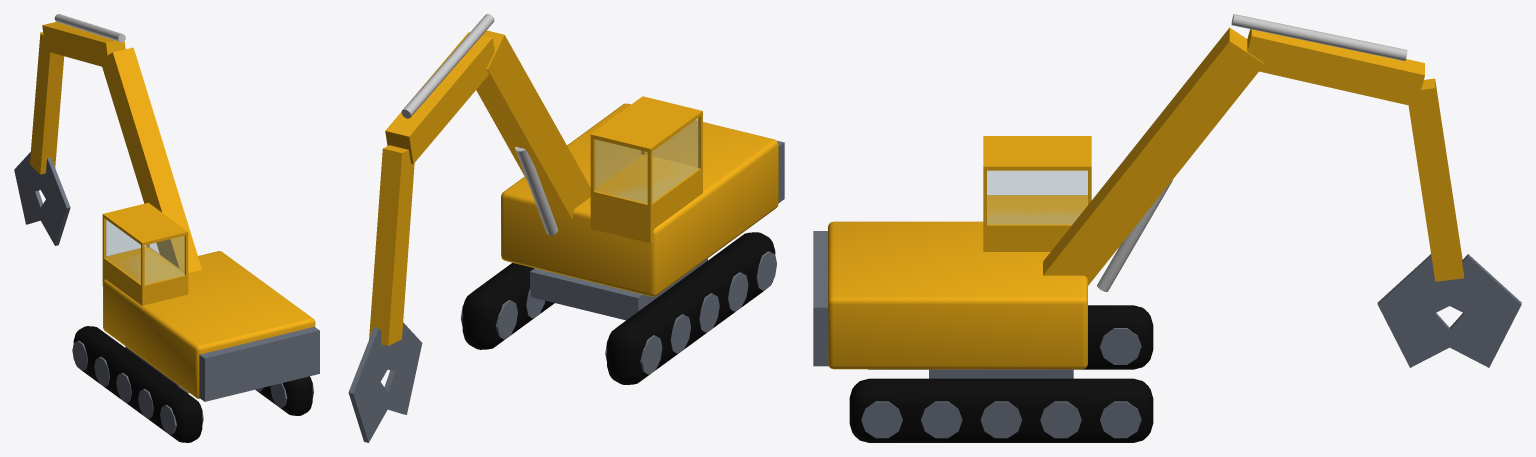
Rendered from plant.excavator.grapple.glb.
3 views of the same model, side by side, from view 1: azimuth 30°, elevation 25°; view 2: azimuth 150°, elevation 25°; view 3: azimuth 270°, elevation 25° (orthographic). The views are drawn at different scales.
Visible parts, largest first — view 1: house__plant_yellow, boom__plant_yellow, undercarriage__rubber, house__steel_painted, house__glass, tool__steel_painted, undercarriage__steel_painted, boom__steel_stainless; view 2: house__plant_yellow, boom__plant_yellow, undercarriage__rubber, undercarriage__steel_painted, house__glass, tool__steel_painted, boom__steel_stainless; view 3: house__plant_yellow, boom__plant_yellow, undercarriage__rubber, tool__steel_painted, undercarriage__steel_painted, house__glass, boom__steel_stainless, house__steel_painted.
Part boxes in pixels (bbox=[...]): house__plant_yellow: bbox=[102, 202, 315, 398]; boom__plant_yellow: bbox=[30, 22, 201, 272]; undercarriage__rubber: bbox=[73, 326, 312, 442]; house__steel_painted: bbox=[199, 326, 319, 401]; house__glass: bbox=[105, 220, 184, 284]; tool__steel_painted: bbox=[14, 152, 70, 245]; undercarriage__steel_painted: bbox=[72, 340, 314, 434]; boom__steel_stainless: bbox=[54, 14, 125, 42]; house__plant_yellow: bbox=[501, 96, 778, 296]; boom__plant_yellow: bbox=[369, 30, 590, 345]; undercarriage__rubber: bbox=[462, 232, 775, 384]; undercarriage__steel_painted: bbox=[460, 251, 776, 374]; house__glass: bbox=[595, 118, 698, 203]; tool__steel_painted: bbox=[348, 322, 422, 442]; boom__steel_stainless: bbox=[401, 14, 558, 235]; house__plant_yellow: bbox=[828, 136, 1091, 369]; boom__plant_yellow: bbox=[1043, 27, 1463, 285]; undercarriage__rubber: bbox=[849, 305, 1153, 442]; tool__steel_painted: bbox=[1377, 254, 1521, 367]; undercarriage__steel_painted: bbox=[861, 328, 1141, 438]; house__glass: bbox=[987, 171, 1087, 224]; boom__steel_stainless: bbox=[1097, 14, 1407, 291]; house__steel_painted: bbox=[813, 231, 828, 366].
Bounding box in the file's own units: 3.02 × 6.08 × 9.79.
